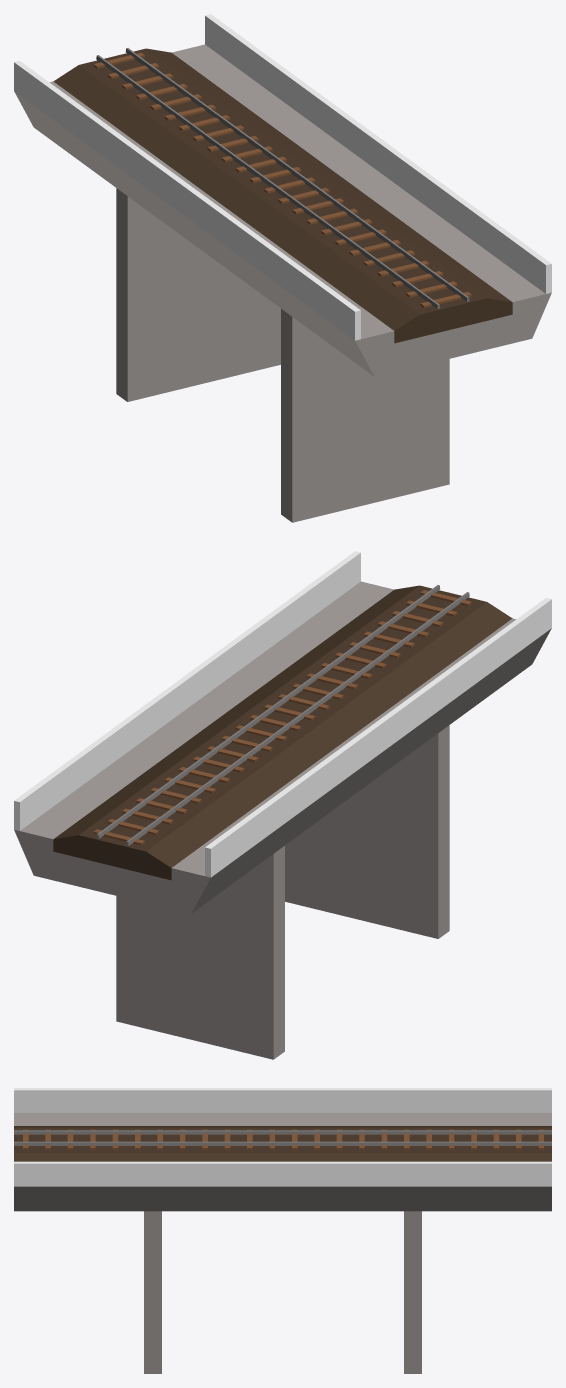
Rendered from tiles-bridge-rail.glb.
3 renders of one model, top to bottom at view 1: azimuth 30°, elevation 25°; view 2: azimuth 150°, elevation 25°; view 3: azimuth 270°, elevation 25°, orthographic. The views are drawn at different scales.
Visible parts, largest first — view 1: bridge-rail; view 2: bridge-rail; view 3: bridge-rail.
Boxes of the visible parts, x1,y1,x2,y2 form: bridge-rail: (14,14,551,522); bridge-rail: (14,551,551,1059); bridge-rail: (14,1088,551,1373).
Bounding box in the file's own units: 10 × 13.4 × 30.
